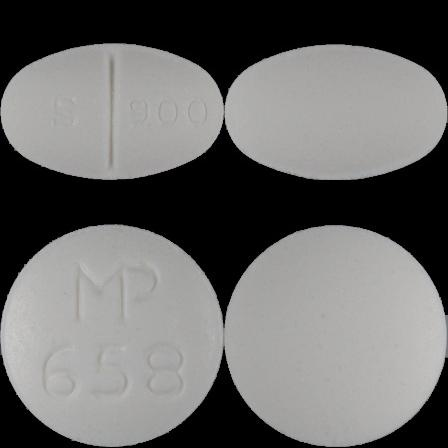10544-155: (0, 0, 224, 224)
